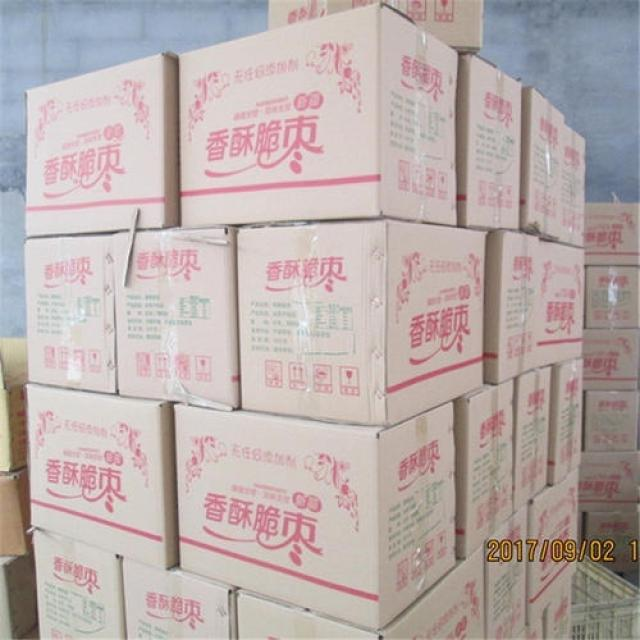box: (173, 401, 458, 631), (179, 3, 460, 228), (238, 220, 488, 428), (24, 379, 180, 571), (24, 51, 179, 237), (111, 224, 241, 412), (237, 544, 485, 639), (26, 232, 116, 396), (453, 379, 515, 566), (457, 50, 521, 230), (266, 0, 484, 51), (31, 527, 124, 639), (123, 556, 237, 639), (484, 229, 540, 385), (527, 466, 579, 627), (518, 88, 564, 243), (538, 236, 585, 370), (513, 366, 553, 515), (484, 503, 527, 639), (545, 358, 584, 486), (0, 337, 28, 472), (581, 389, 640, 453), (582, 265, 640, 330), (579, 452, 640, 512), (584, 204, 640, 268), (584, 508, 640, 572), (581, 330, 639, 390), (0, 556, 40, 639), (562, 124, 586, 250), (0, 466, 31, 557), (525, 580, 572, 639)
